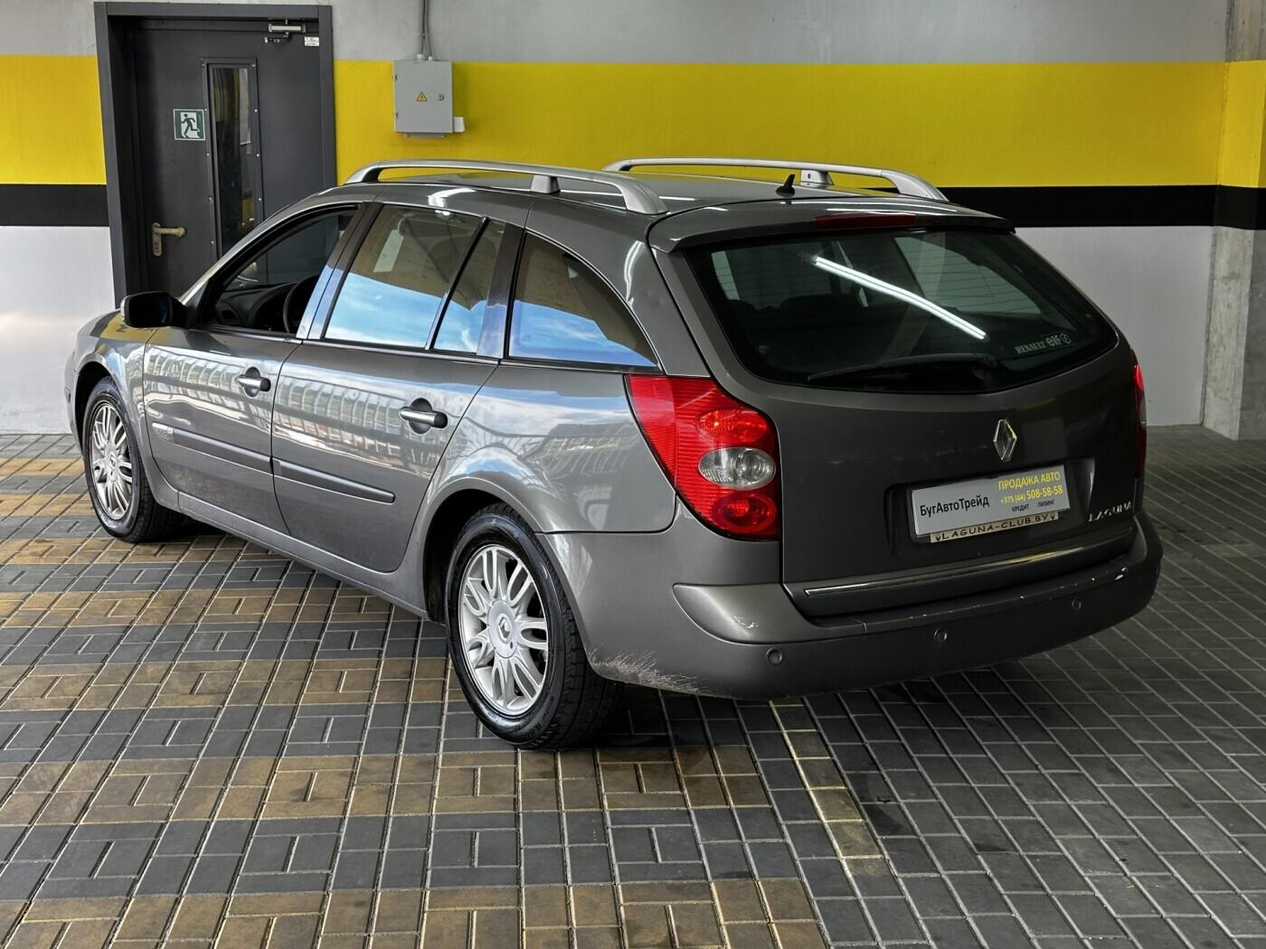Laguna_2005-2007: (62, 155, 1167, 770)
